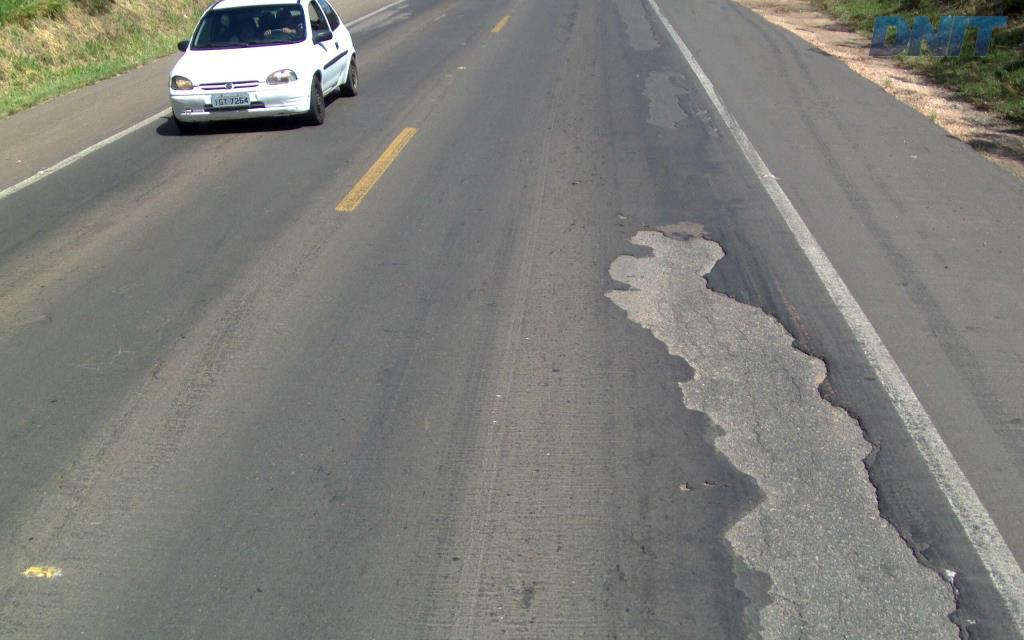pothole: (586, 209, 979, 638), (631, 59, 694, 132), (606, 0, 663, 50)
